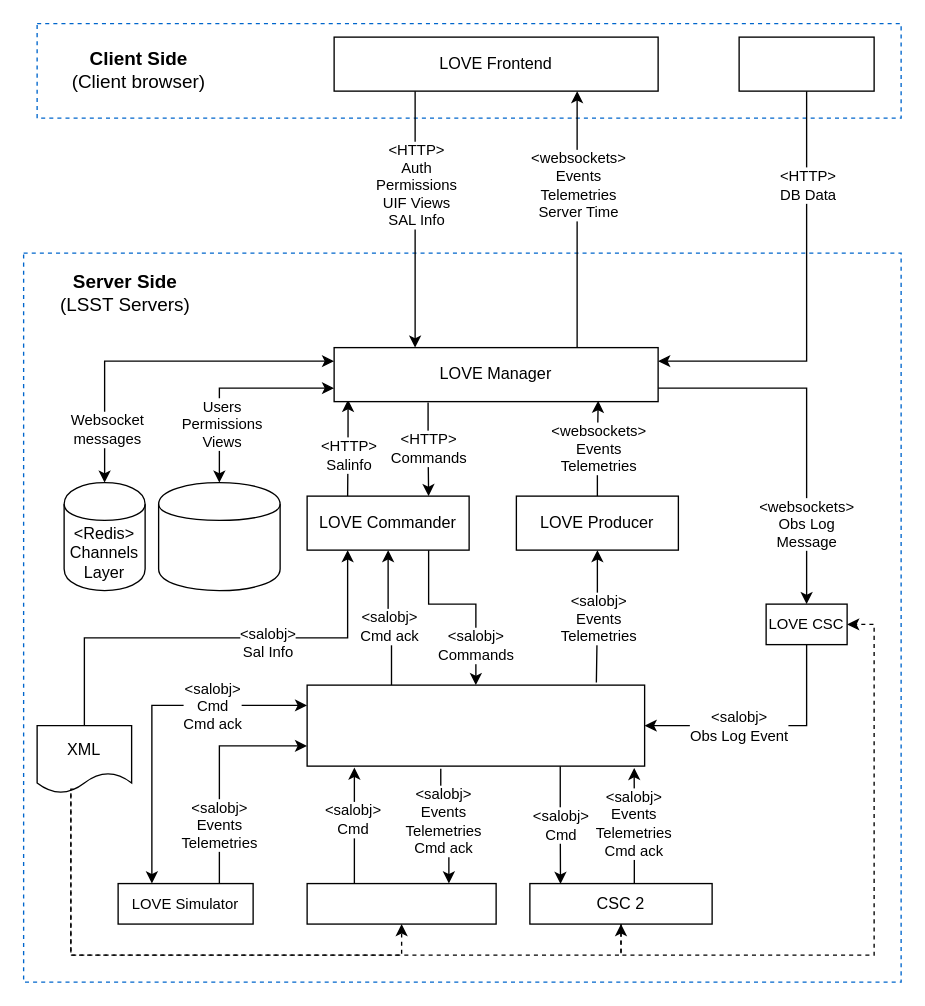
Image size: 925x1006. Some labels were removed from this diagram. Here are the shapes that lost their labels. From the top down, the centre of each, then its label:
the point at 806,63: LOVE Manager Admin
the point at 218,536: <PostgreSQL> Database
the point at 475,725: SAL
the point at 401,903: CSC 1
